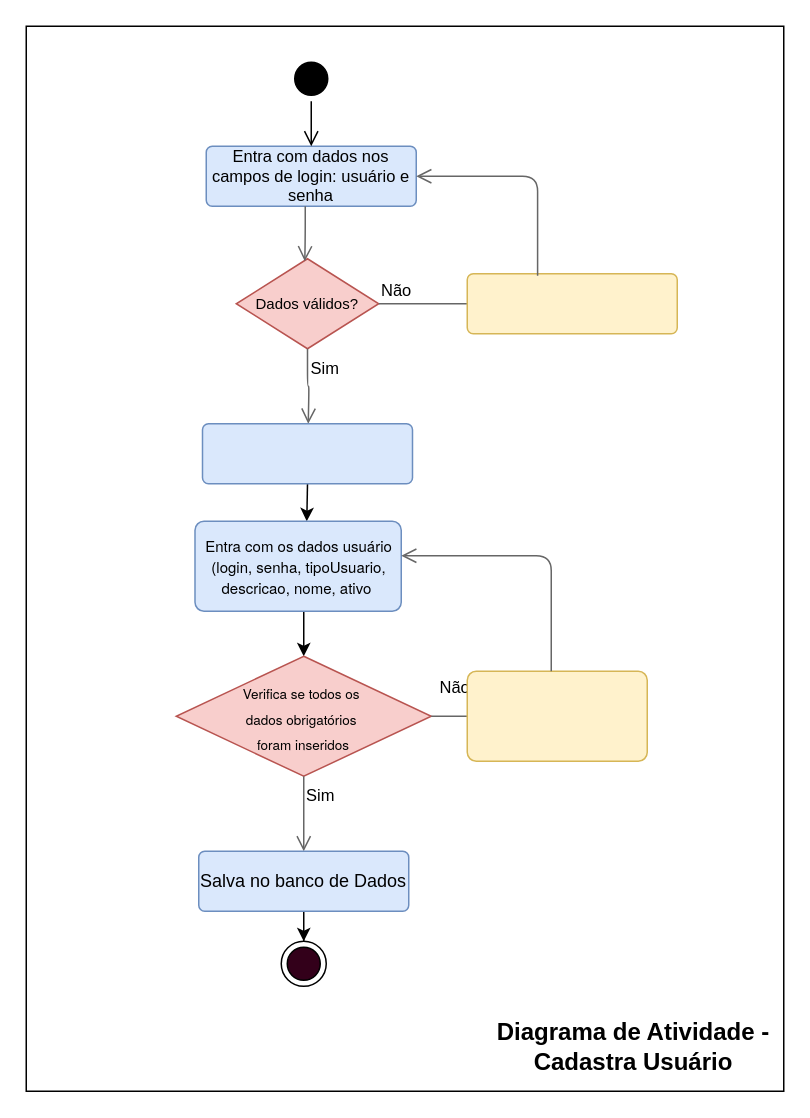
This 810x1118 diagram has some shape labels left out. Here are the shapes that lost their labels. From the top down, the centre of each, then its label:
point 571,303: Exibe mensagem de erro: Login Incorreto, Por favor tente novamente.
point 306,453: Login - DietaJa
point 556,715: Existem campos não preenchidos (campos)
